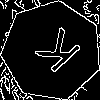K: (26, 26, 83, 82)
